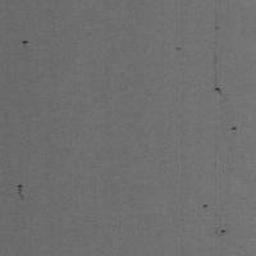Inclusion: (17, 184, 23, 198)
